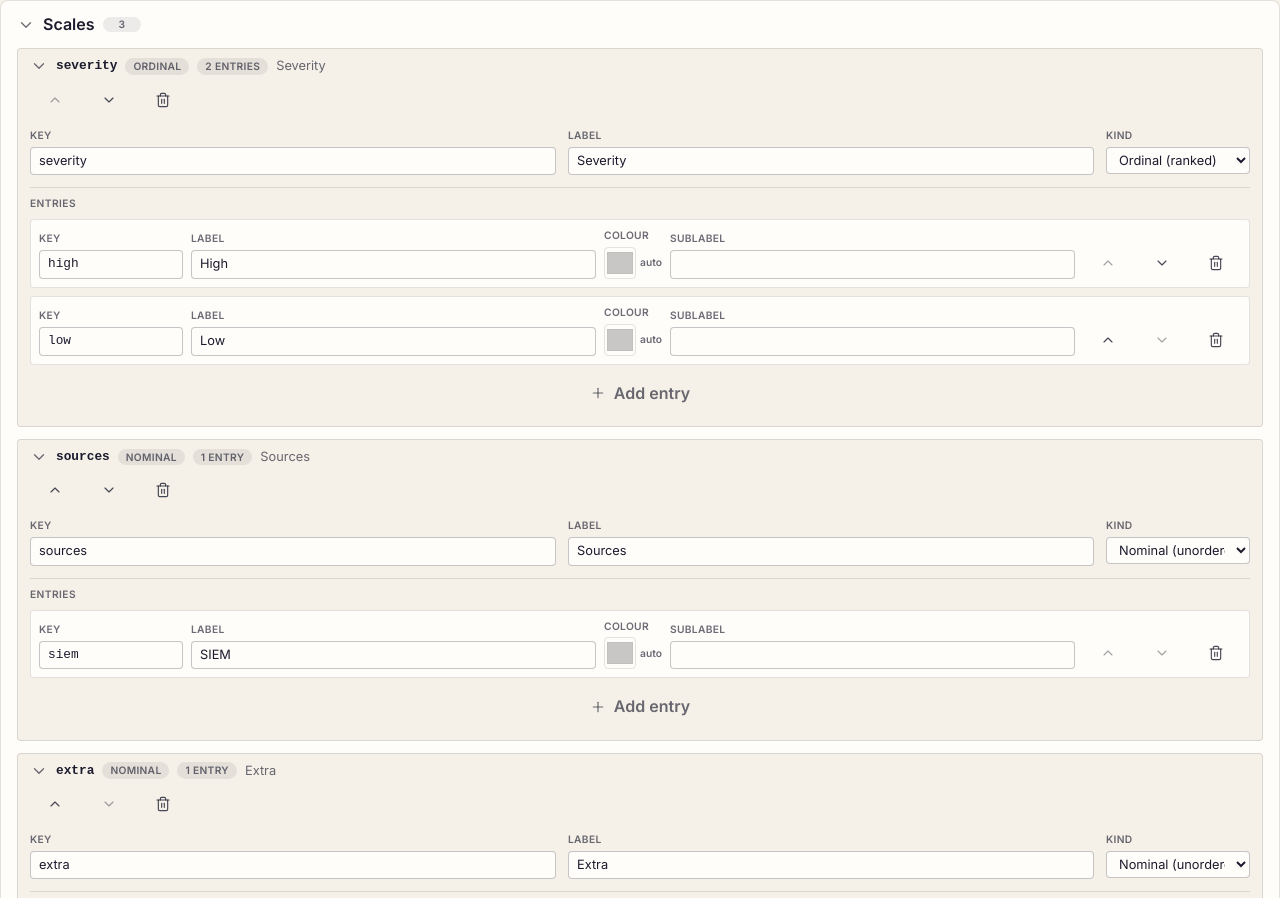
it: ScalesEditor › rejects an invalid key with a notice and reverts the field, without editing
Replace the text in the 1st field labelled "Key" with "Bad Key" at coordinates (293, 161), box [30,147,556,175]
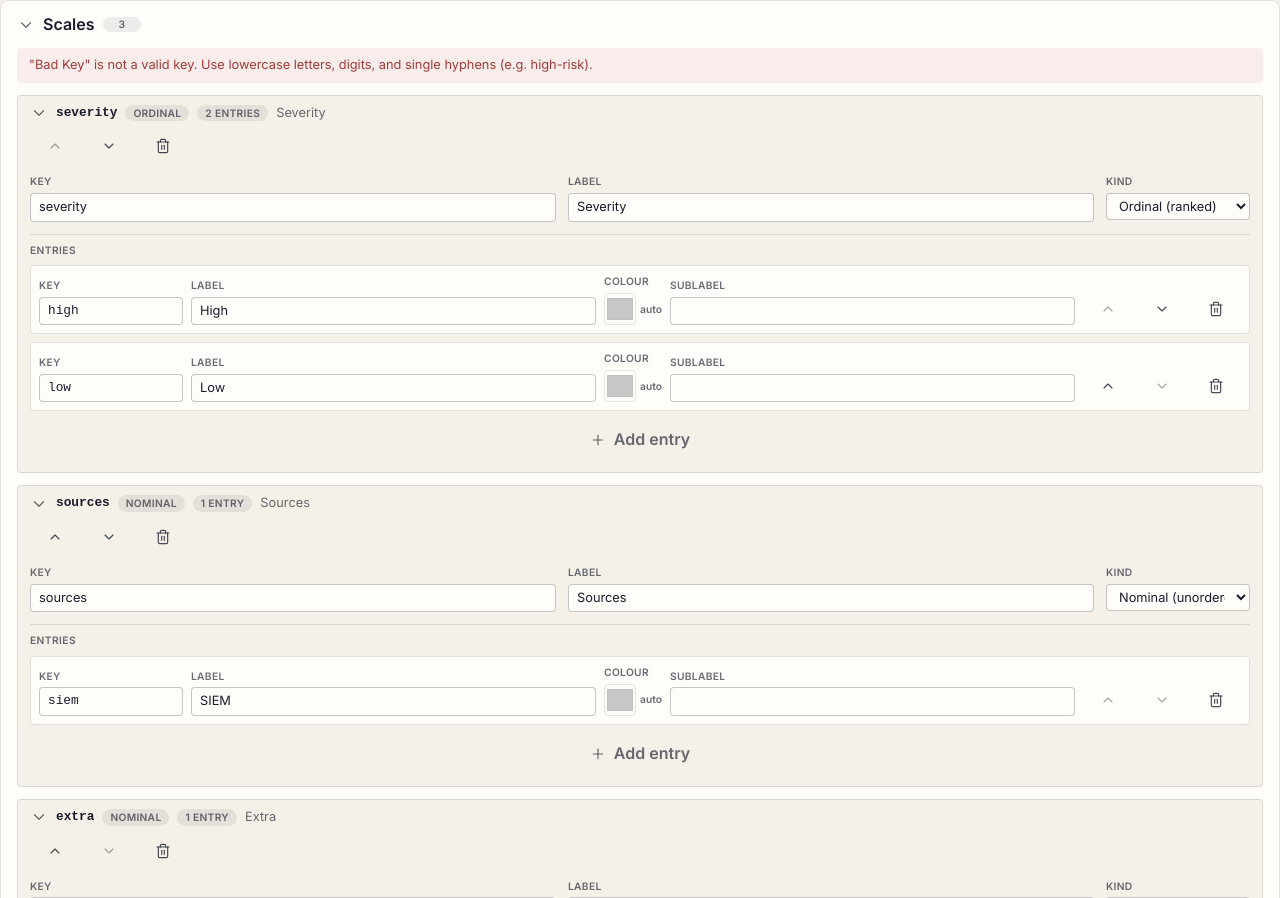
Expected: the message is shown, [17,48,1263,83]
